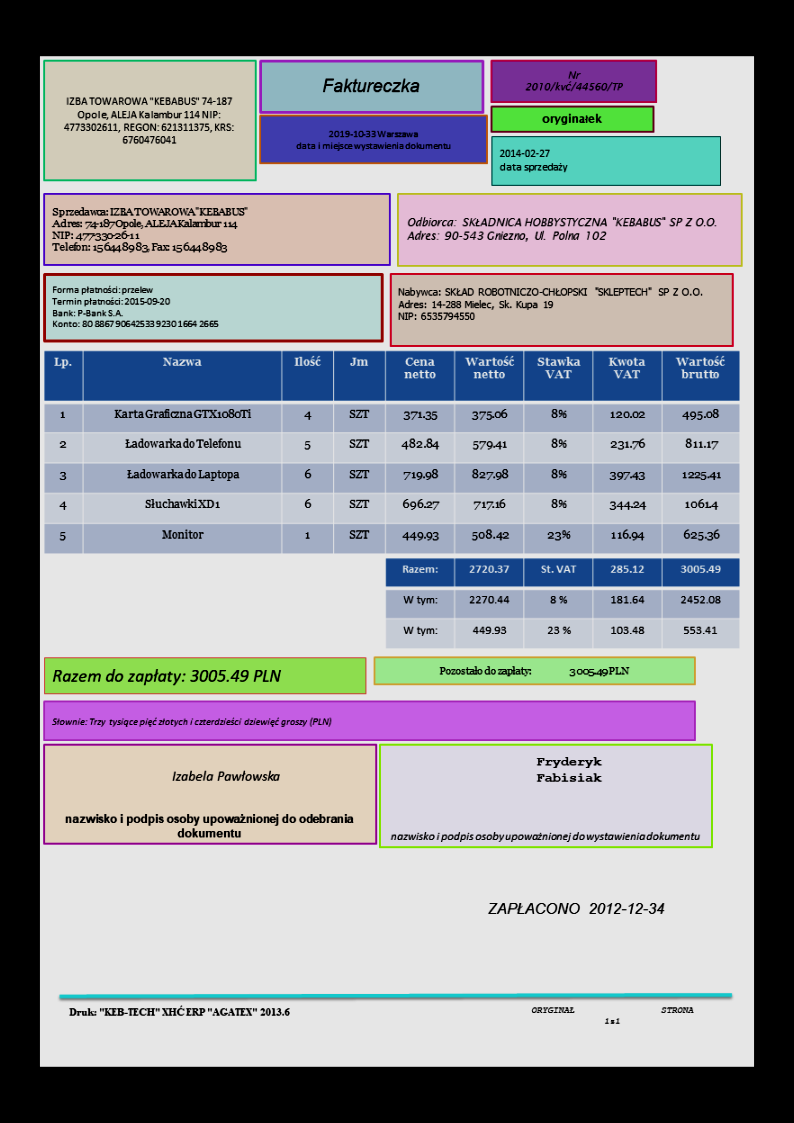Table: (42, 350, 741, 556), (384, 556, 742, 649)
TextBox: (396, 285, 705, 323), (50, 203, 249, 255), (61, 93, 236, 146), (403, 215, 719, 242), (63, 812, 355, 840), (50, 283, 219, 329), (388, 827, 702, 844), (51, 665, 284, 684), (294, 128, 454, 153), (485, 899, 668, 918), (530, 1004, 695, 1025), (66, 1005, 293, 1020), (51, 716, 334, 728), (523, 68, 626, 96), (437, 664, 631, 678), (534, 755, 606, 784), (498, 147, 569, 176), (321, 76, 420, 95), (170, 769, 282, 783), (539, 111, 604, 126)
